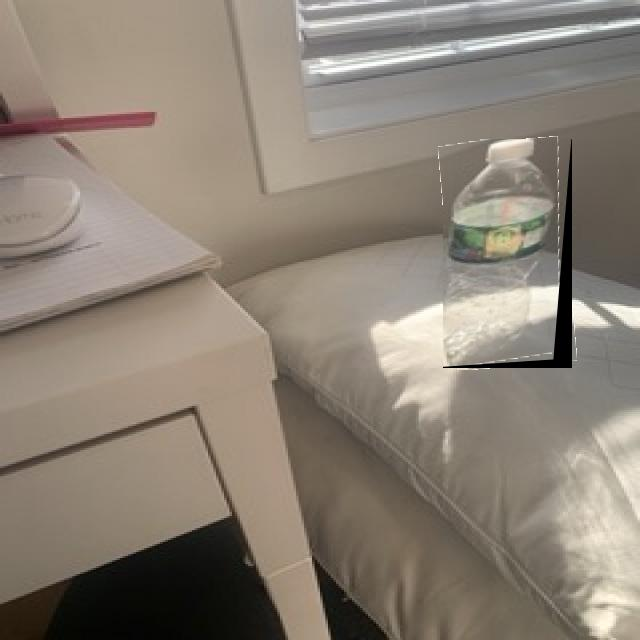water_bottle: (443, 139, 572, 368)
